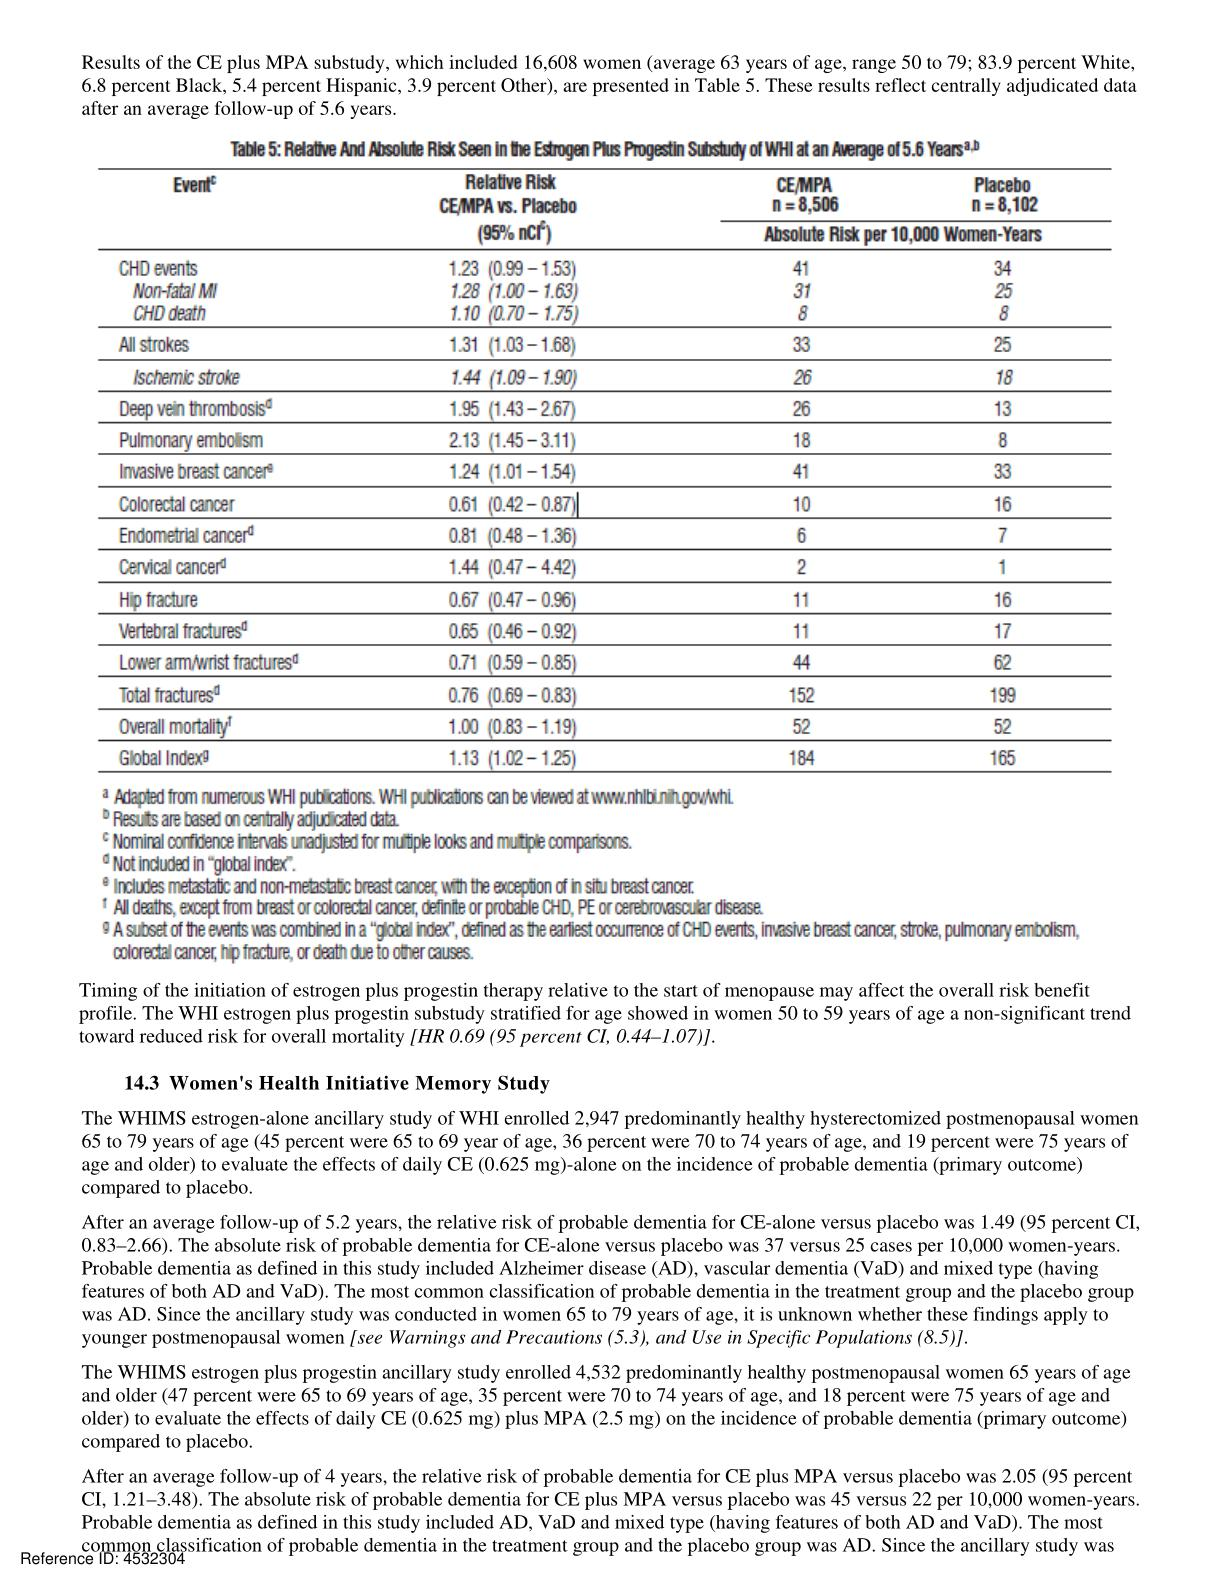partial_lined_merged_cells: (94, 165, 1113, 773)
